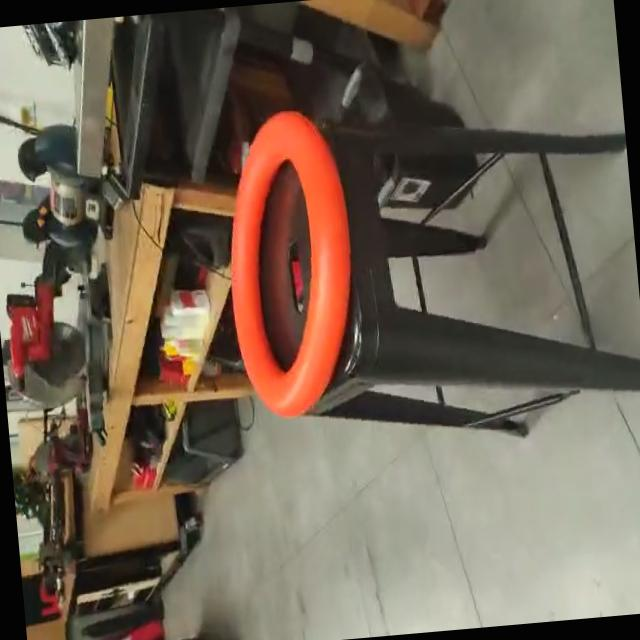note: (211, 100, 369, 425)
